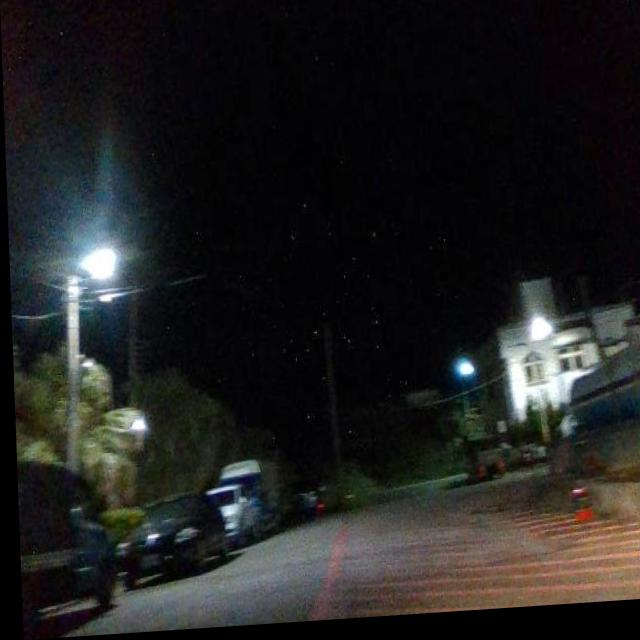pollute: (567, 491, 596, 536)
